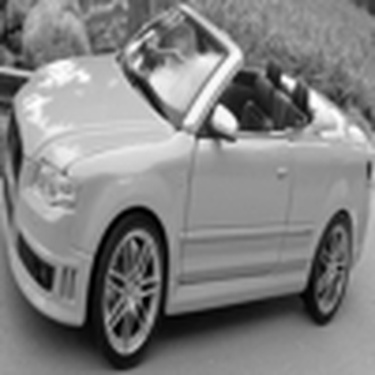car: (2, 1, 373, 370)
